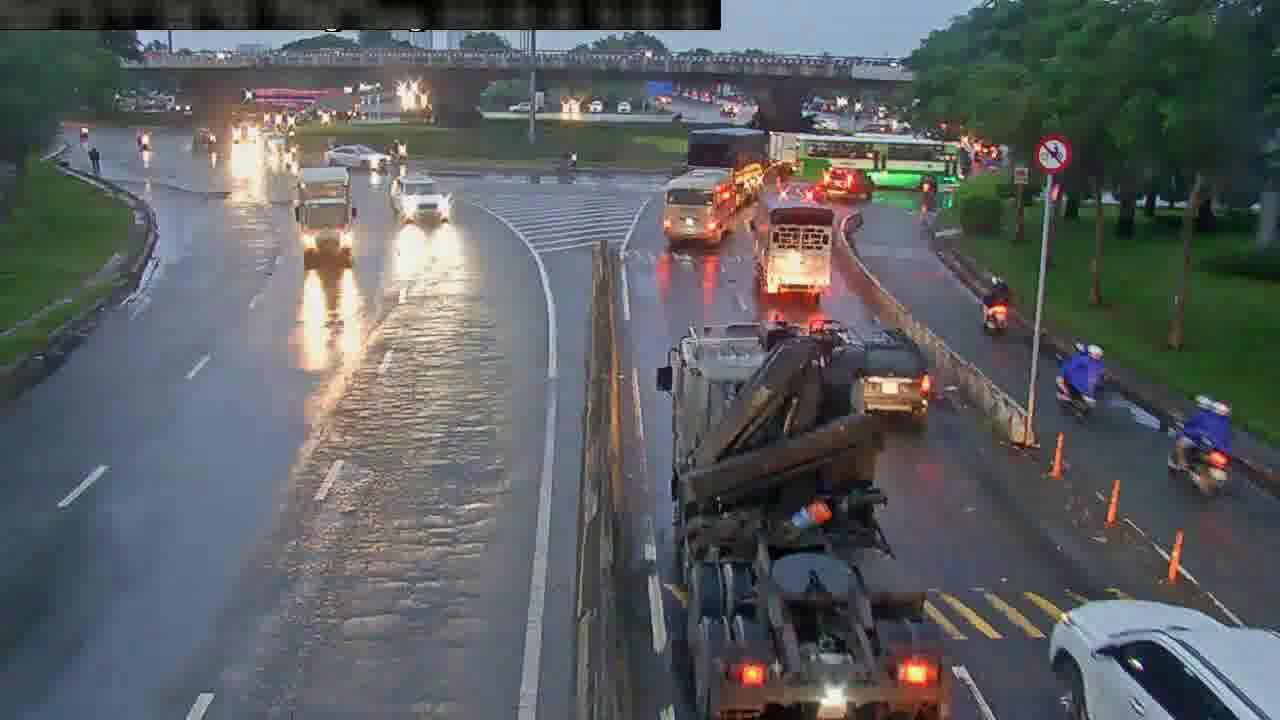14: (798, 131, 962, 195), (664, 161, 739, 249)
8: (665, 326, 913, 713), (747, 190, 833, 311), (299, 166, 356, 271), (694, 127, 767, 193)
container: (1047, 589, 1276, 720), (861, 327, 936, 419), (389, 174, 449, 230), (325, 137, 388, 170), (818, 170, 878, 199)
motorbike: (1173, 392, 1226, 494), (1056, 339, 1105, 421), (979, 271, 1004, 338)
